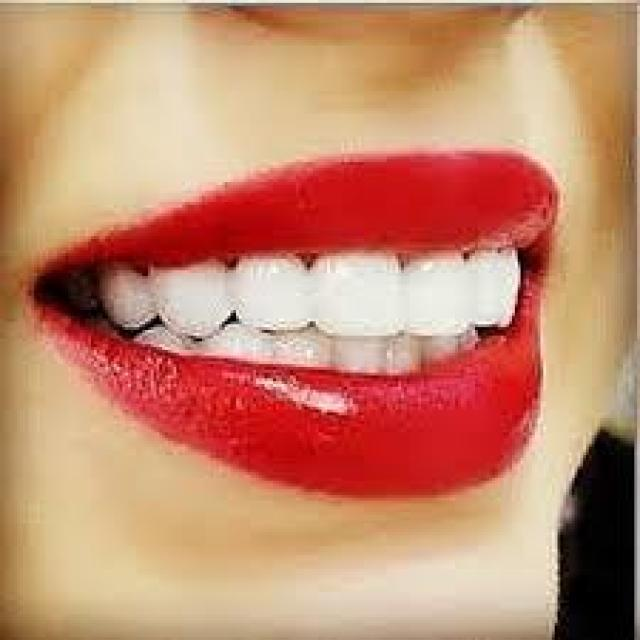tooth: (313, 256, 401, 321), (401, 256, 469, 327), (139, 268, 225, 318), (224, 262, 302, 316), (469, 256, 501, 327), (94, 268, 139, 318), (270, 330, 330, 364), (193, 330, 270, 356), (501, 253, 529, 324), (330, 330, 375, 364), (376, 336, 416, 372), (125, 324, 174, 350), (424, 324, 449, 367)
